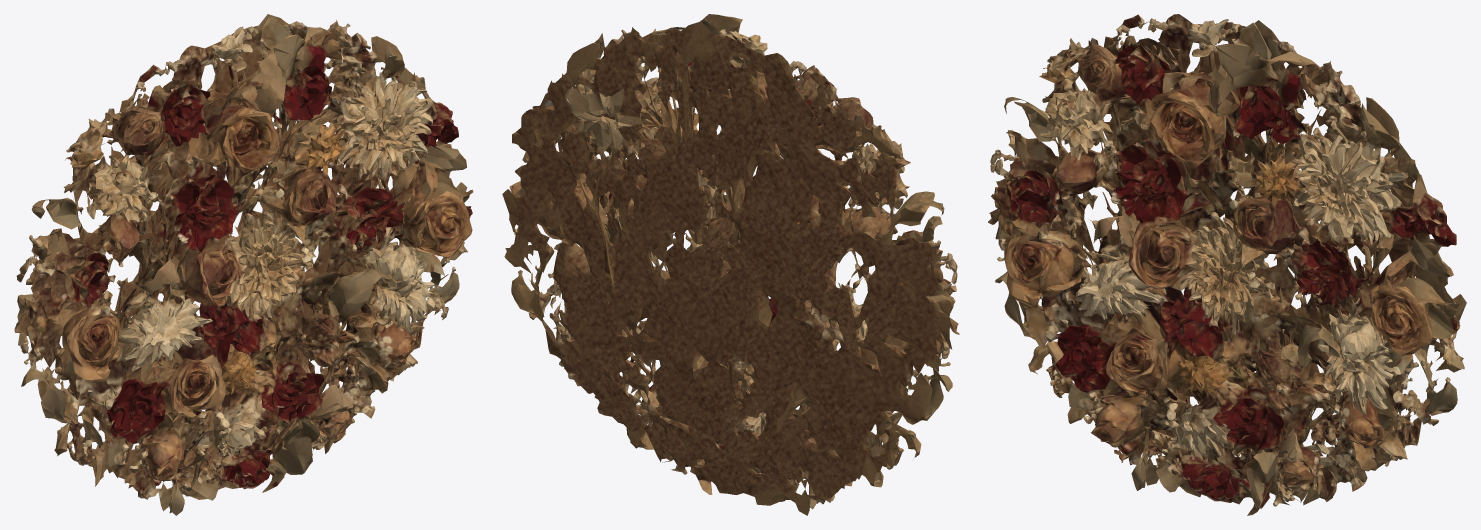
The model's file is remeshed-wreath-100000.glb.
3 renders of one model, left to right at view 1: azimuth 30°, elevation 25°; view 2: azimuth 150°, elevation 25°; view 3: azimuth 330°, elevation 25°, orthographic. The views are drawn at different scales.
Parts seen in each view (by area): view 1: output_unwrapped; view 2: output_unwrapped; view 3: output_unwrapped.
Boxes of the visible parts, x1,y1,x2,y2 form: output_unwrapped: [14, 14, 473, 515]; output_unwrapped: [502, 14, 959, 515]; output_unwrapped: [988, 14, 1466, 515].
Size of the model in its own units: 1.86 by 1.86 by 0.2442.
Materials: 1 (1 with a texture image).
